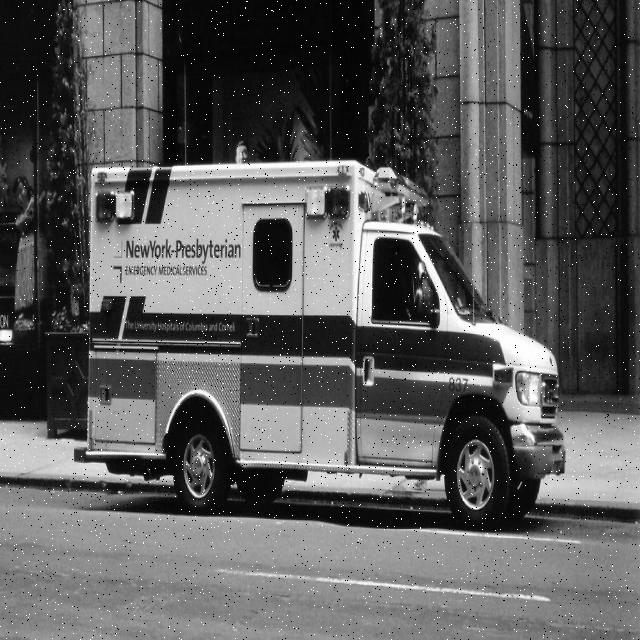Ambulance: (73, 160, 567, 533)
